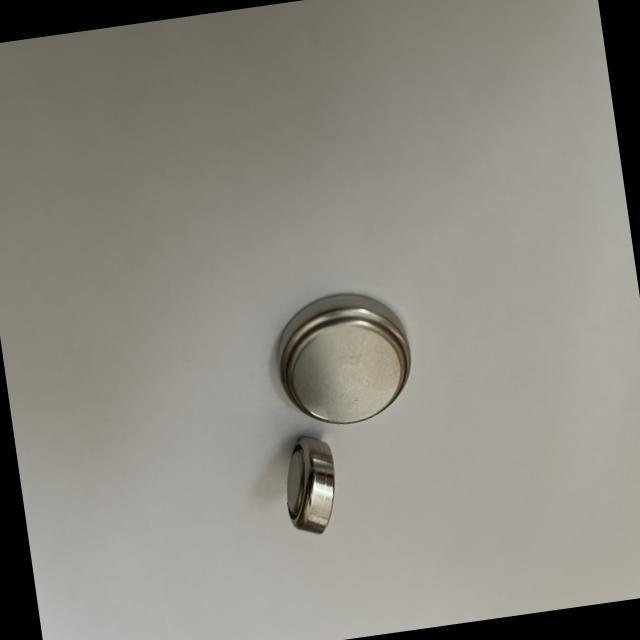COIN: (266, 284, 422, 434), (272, 430, 344, 542)
